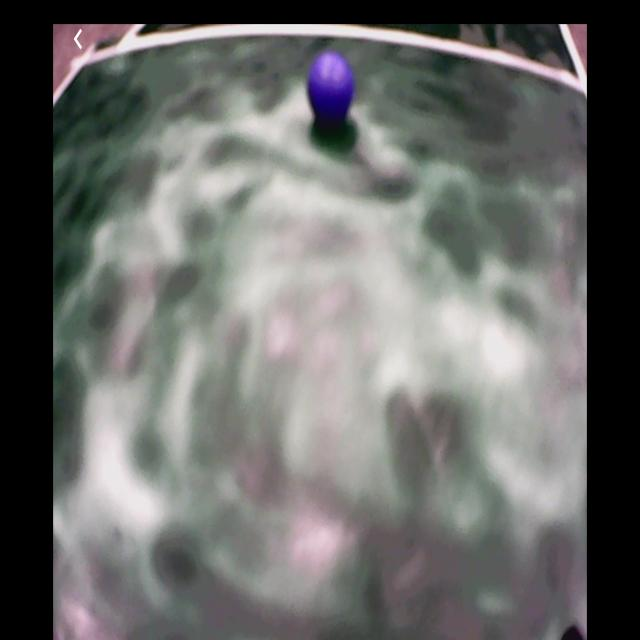ball: (308, 50, 354, 130)
